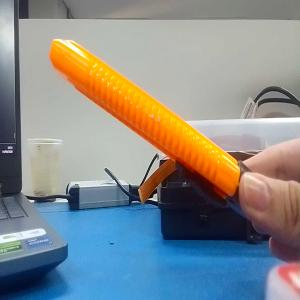estilete: (49, 38, 253, 223)
